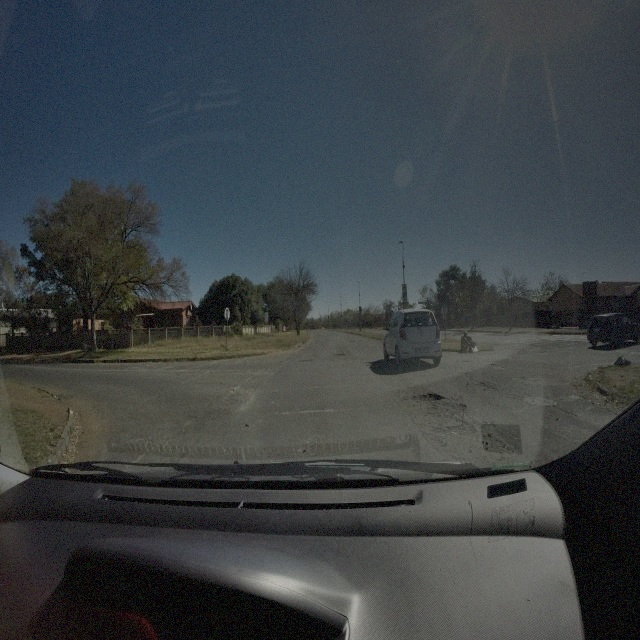pothole: (445, 418, 477, 437), (412, 391, 446, 404), (452, 401, 468, 411), (366, 359, 377, 367), (298, 358, 312, 362), (336, 352, 344, 357), (489, 362, 498, 366)
